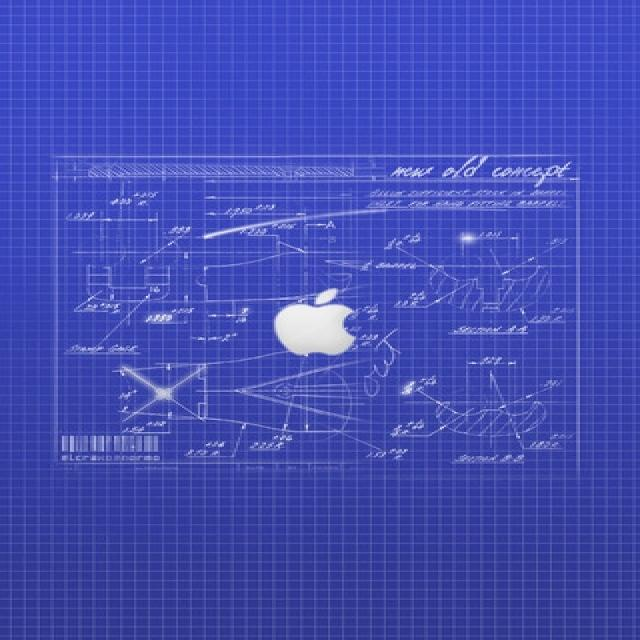apple: (271, 285, 367, 362)
